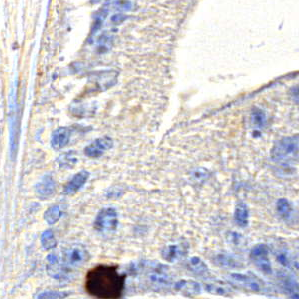Lymphocyte: (86, 264, 127, 299)
